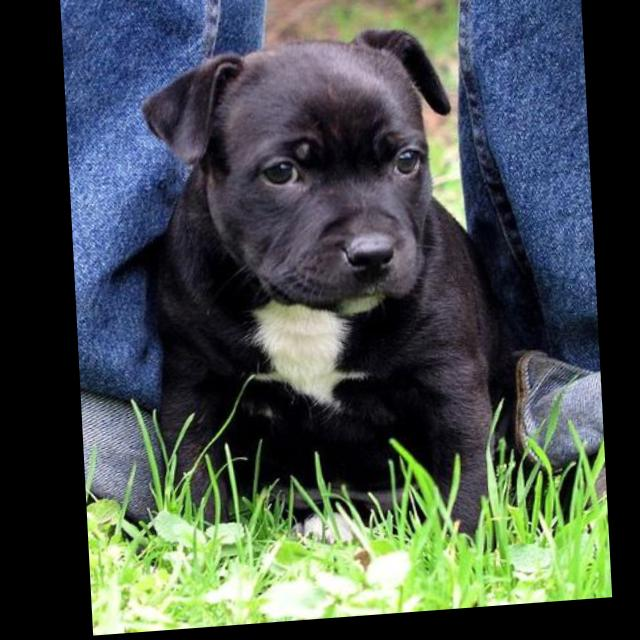staffford: (130, 25, 510, 569)
